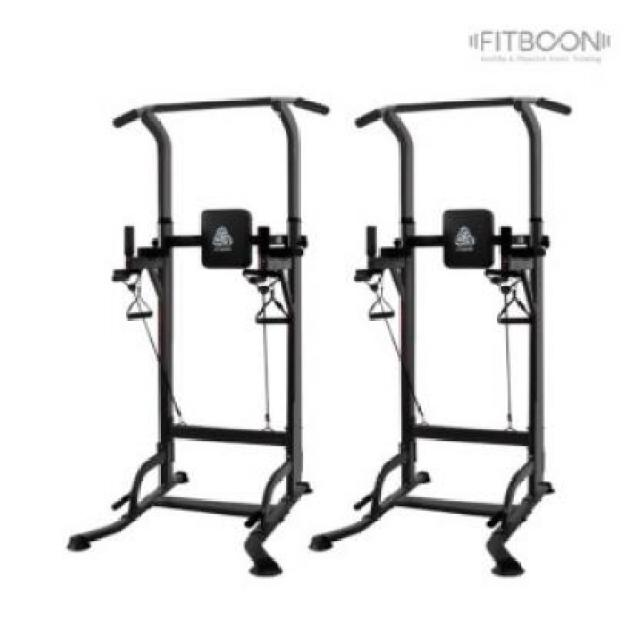chinning dipping: (66, 97, 331, 577), (314, 97, 574, 578)
